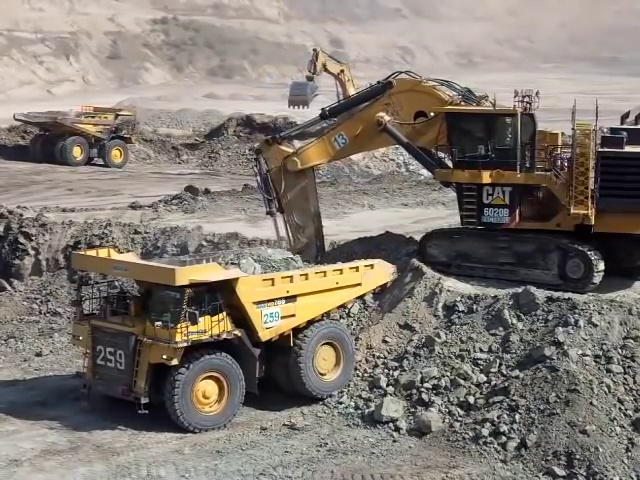dumper: (68, 246, 402, 431), (11, 105, 139, 170)
excavator: (257, 69, 640, 290), (288, 43, 366, 114)
